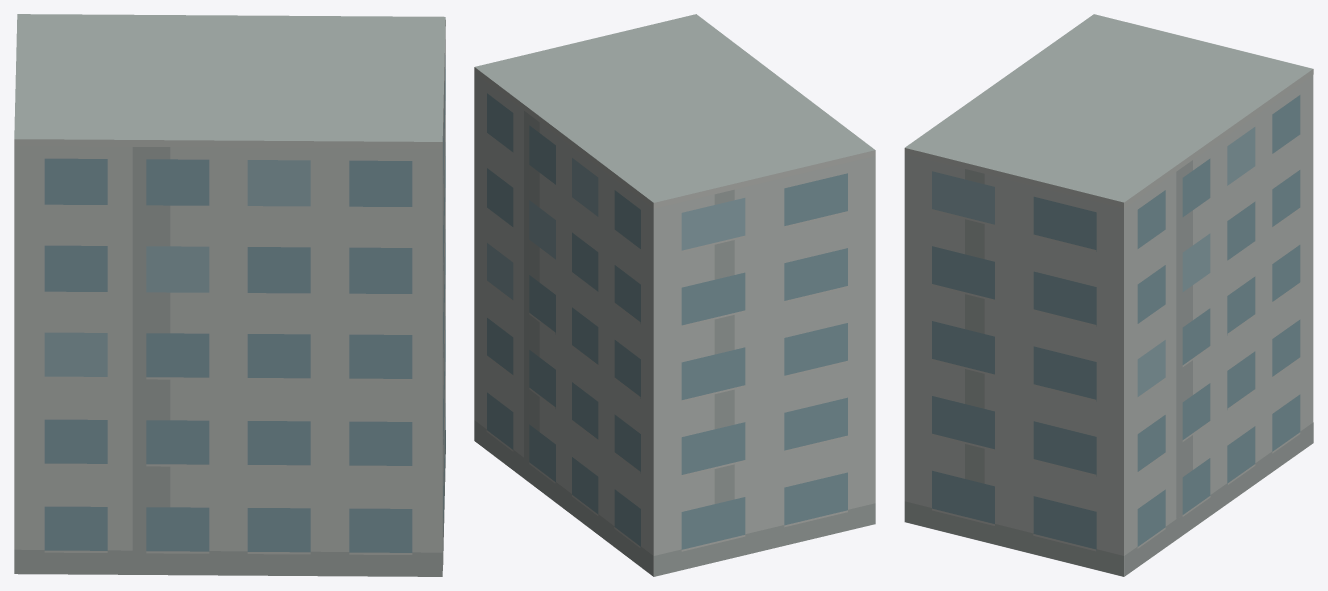
The model's file is survey-upis-32778347.glb.
3 renders of one model, left to right at view 1: azimuth 30°, elevation 25°; view 2: azimuth 150°, elevation 25°; view 3: azimuth 270°, elevation 25°, orthographic. The views are drawn at different scales.
Visible parts, largest first — view 1: survey-upis-32778347.tmp; view 2: survey-upis-32778347.tmp; view 3: survey-upis-32778347.tmp.
Part boxes in pixels (x1,y1,x2,y2): survey-upis-32778347.tmp: (14,14,445,576); survey-upis-32778347.tmp: (474,14,875,576); survey-upis-32778347.tmp: (904,14,1313,576).
Bounding box in the file's own units: 16.54 × 15.3 × 15.15.
